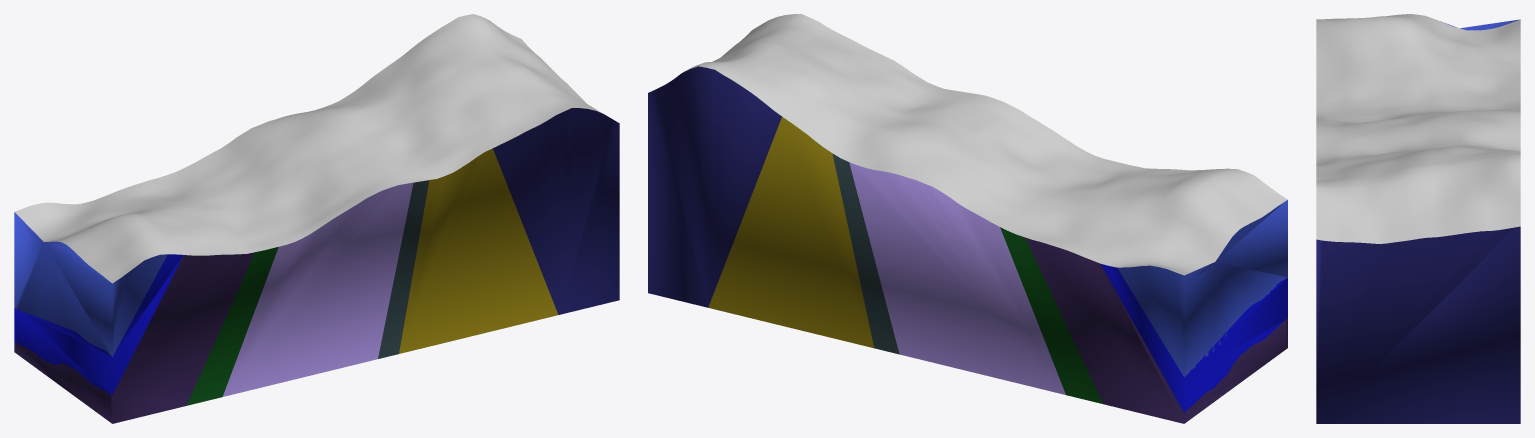
The model's file is stub.obj.
3 renders of one model, left to right at view 1: azimuth 30°, elevation 25°; view 2: azimuth 150°, elevation 25°; view 3: azimuth 270°, elevation 25°, orthographic. The views are drawn at different scales.
Parts seen in each view (by area): view 1: stub; view 2: stub; view 3: stub.
Boxes of the visible parts, bbox=[...] form: stub: bbox=[14, 14, 619, 423]; stub: bbox=[648, 14, 1287, 423]; stub: bbox=[1316, 14, 1520, 423].
Size of the model in its own units: 1071 by 457 by 358.
